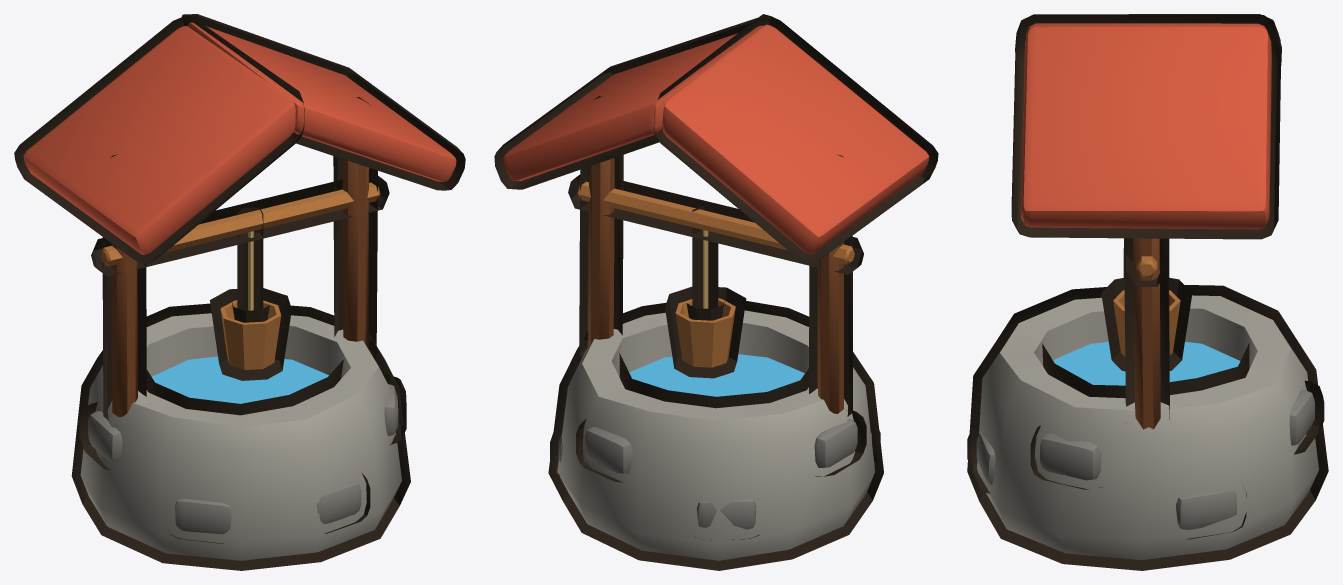
Rendered from well.glb.
3 renders of one model, left to right at view 1: azimuth 30°, elevation 25°; view 2: azimuth 150°, elevation 25°; view 3: azimuth 270°, elevation 25°, orthographic. The views are drawn at different scales.
Visible parts, largest first — view 1: well; view 2: well; view 3: well.
Part boxes in pixels (x1,y1,x2,y2): well: (14, 14, 465, 570); well: (494, 14, 938, 570); well: (967, 14, 1328, 570).
Bounding box in the file's own units: 1.61 × 2.06 × 1.39.
